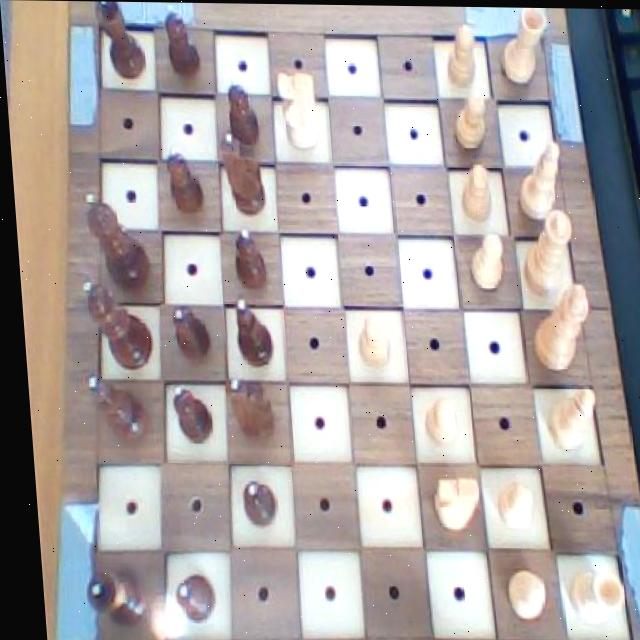bishop: (78, 368, 147, 449), (226, 295, 274, 368)
black-bishop: (76, 276, 153, 375)
black-king: (212, 127, 266, 216), (215, 373, 277, 445)
black-knight: (160, 380, 210, 448), (159, 4, 202, 83), (221, 73, 262, 148), (164, 302, 212, 366), (222, 226, 267, 294), (161, 145, 203, 217), (159, 566, 208, 626), (229, 472, 273, 534)
black-pawn: (80, 187, 153, 293)
black-rook: (509, 133, 563, 225), (537, 377, 597, 454)
white-bishop: (522, 278, 593, 375)
white-king: (268, 65, 326, 153), (420, 471, 476, 537)
white-knight: (438, 19, 483, 91), (462, 231, 507, 293), (454, 161, 497, 225), (450, 88, 492, 153), (347, 310, 391, 372), (494, 565, 541, 622), (483, 479, 530, 533), (414, 396, 457, 452)
white-pawn: (510, 203, 578, 298)
white-queen: (492, 6, 553, 92), (88, 1, 151, 83), (73, 562, 143, 628), (554, 568, 620, 629)
